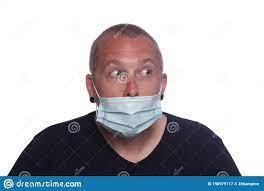mask_weared_incorrect: (92, 36, 159, 135)
